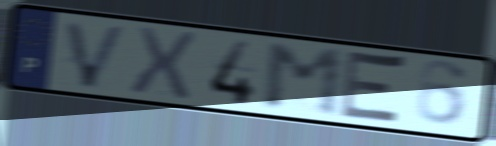4: (205, 37, 257, 107)
6: (414, 57, 473, 134)
E: (336, 46, 411, 130)
M: (262, 41, 346, 120)
V: (61, 17, 132, 91)
X: (126, 23, 200, 102)
